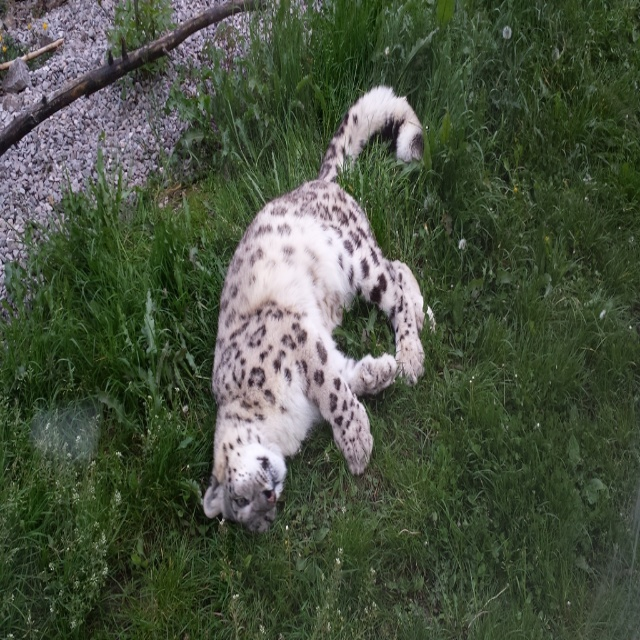Leopard: (203, 85, 437, 535)
